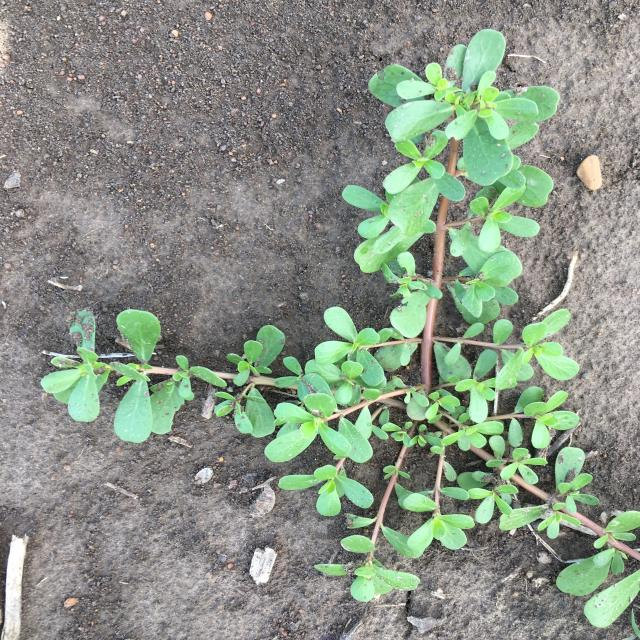Purslane: (41, 29, 640, 629)
